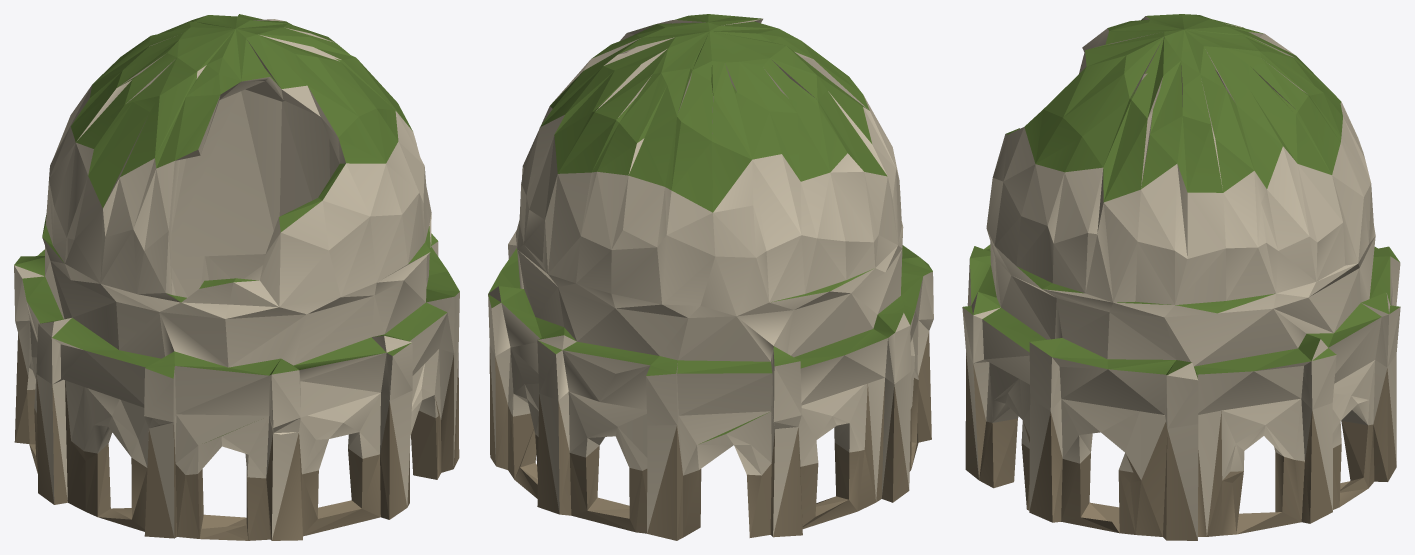
File: ruin-dome.glb
3 renders of one model, left to right at view 1: azimuth 30°, elevation 25°; view 2: azimuth 150°, elevation 25°; view 3: azimuth 270°, elevation 25°, orthographic.
Visible parts, largest first — view 1: ruin-dome; view 2: ruin-dome; view 3: ruin-dome.
Part boxes in pixels (x1,y1,x2,y2): ruin-dome: (14, 14, 459, 540); ruin-dome: (488, 14, 933, 540); ruin-dome: (962, 14, 1400, 540).
Bounding box in the file's own units: 13.45 × 14 × 13.2.
